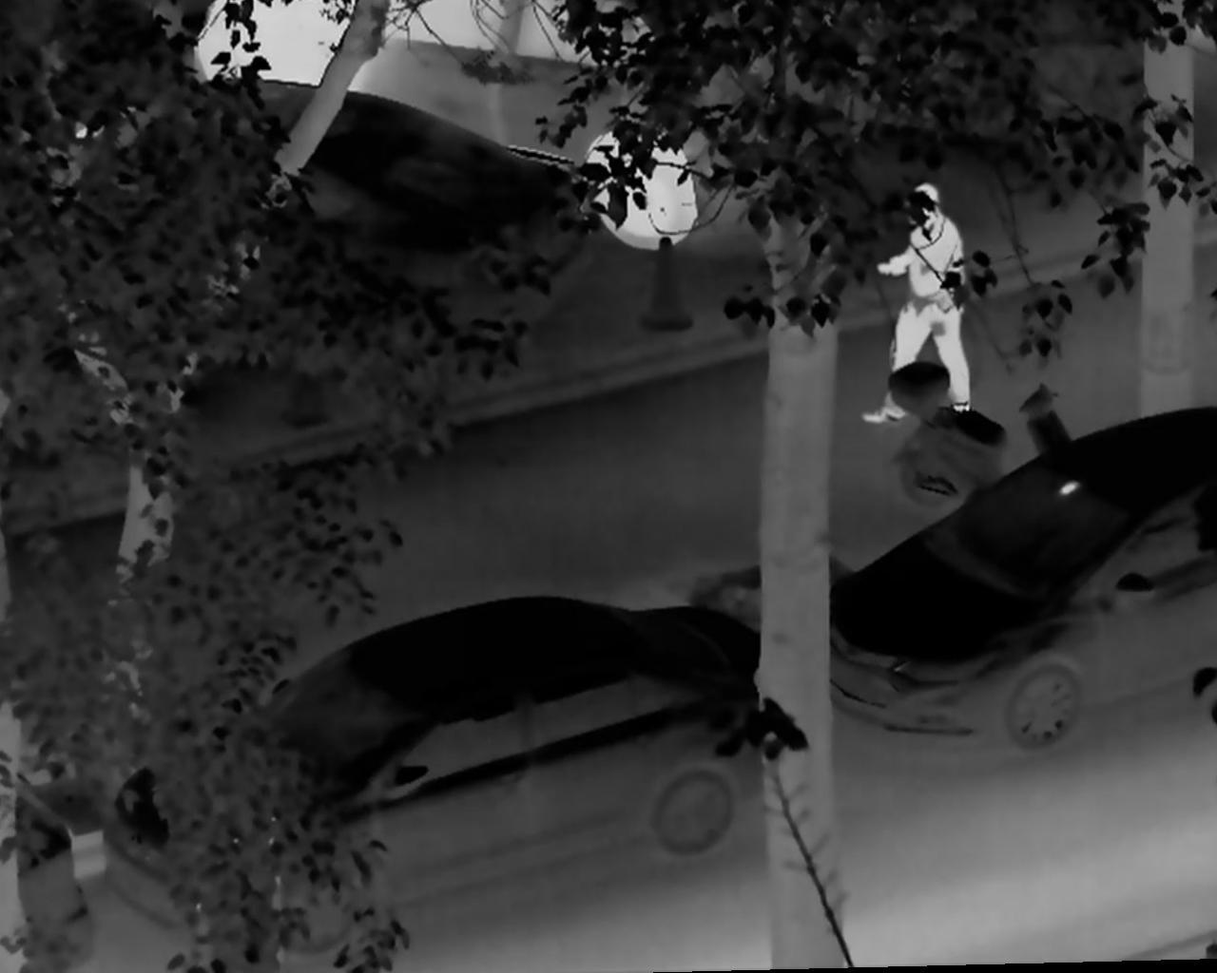person: (858, 179, 976, 426)
